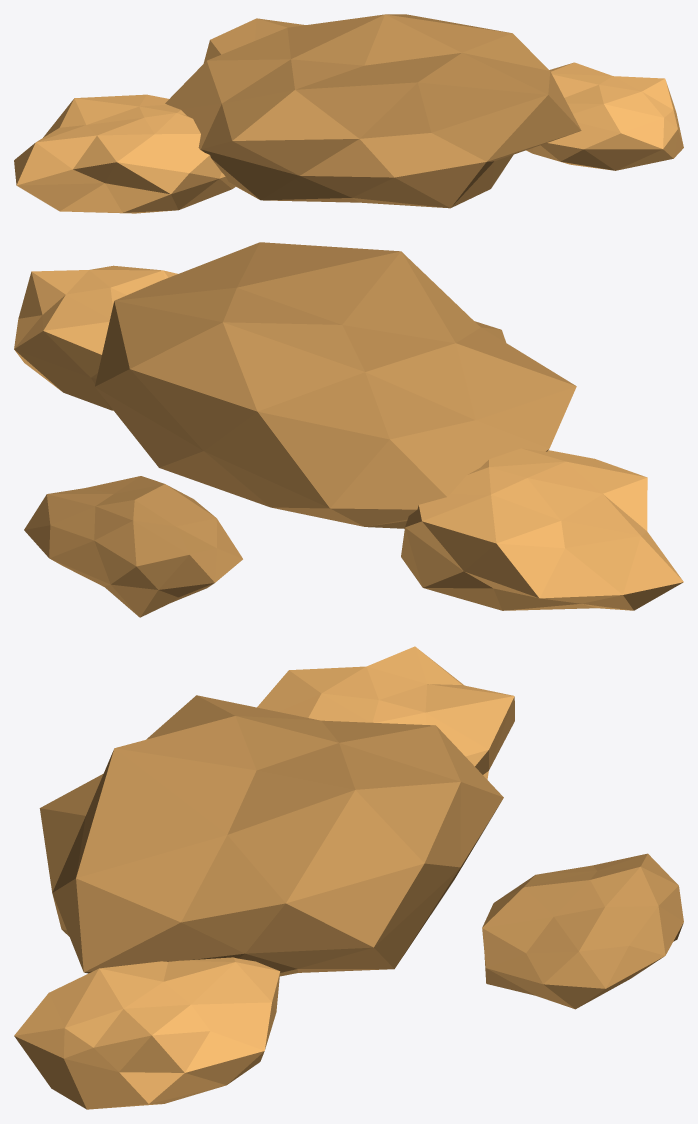
The model's file is t6_rock_depleted.glb.
3 renders of one model, top to bottom at view 1: azimuth 30°, elevation 25°; view 2: azimuth 150°, elevation 25°; view 3: azimuth 270°, elevation 25°, orthographic. The views are drawn at different scales.
Parts seen in each view (by area): view 1: RubbleCenter, RubbleLeft, RubbleRight, RubbleFront; view 2: RubbleCenter, RubbleLeft, RubbleFront, RubbleRight; view 3: RubbleCenter, RubbleRight, RubbleFront, RubbleLeft.
Boxes of the visible parts, <box> form: RubbleCenter: <box>165,14,581,208</box>; RubbleLeft: <box>14,94,235,213</box>; RubbleRight: <box>526,62,683,170</box>; RubbleFront: <box>203,18,305,63</box>; RubbleCenter: <box>95,242,576,528</box>; RubbleLeft: <box>401,448,683,610</box>; RubbleFront: <box>24,476,242,617</box>; RubbleRight: <box>14,265,177,410</box>; RubbleCenter: <box>39,695,503,976</box>; RubbleRight: <box>14,957,280,1109</box>; RubbleFront: <box>482,853,683,1009</box>; RubbleLeft: <box>257,646,514,779</box>.
Bounding box in the file's own units: 1.02 × 0.2306 × 0.7037.
